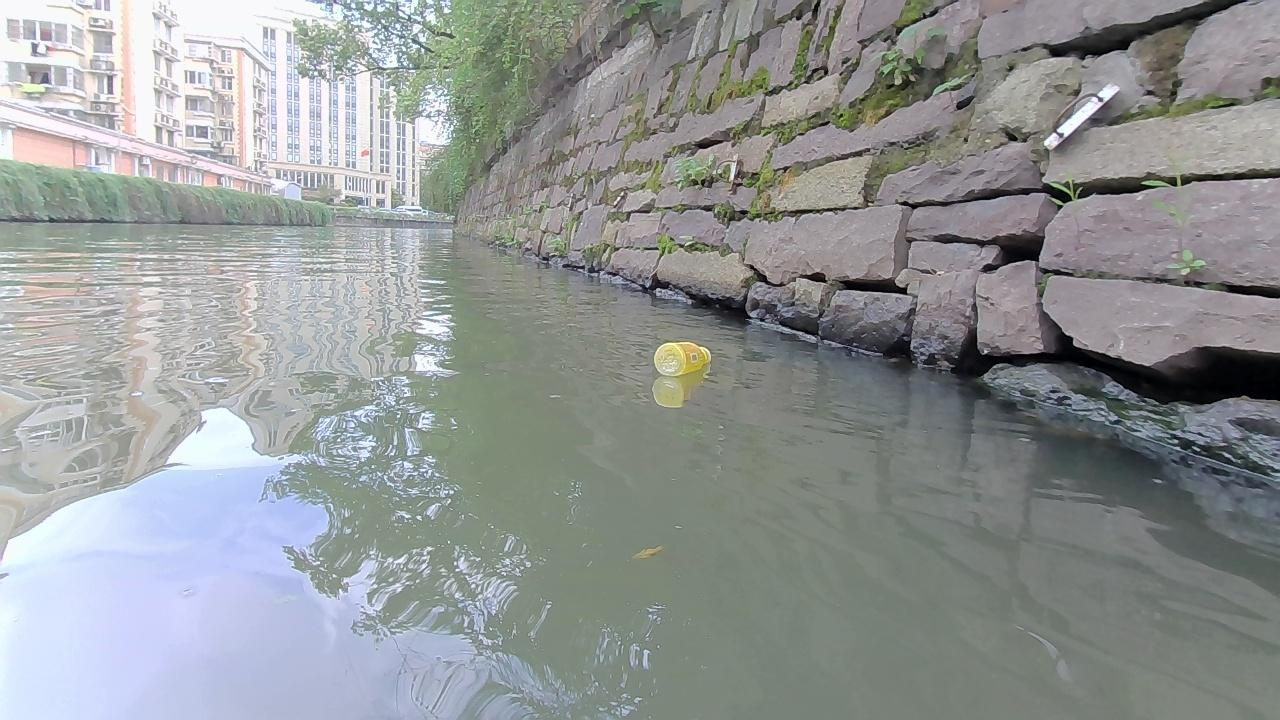bottle: (651, 340, 712, 374)
